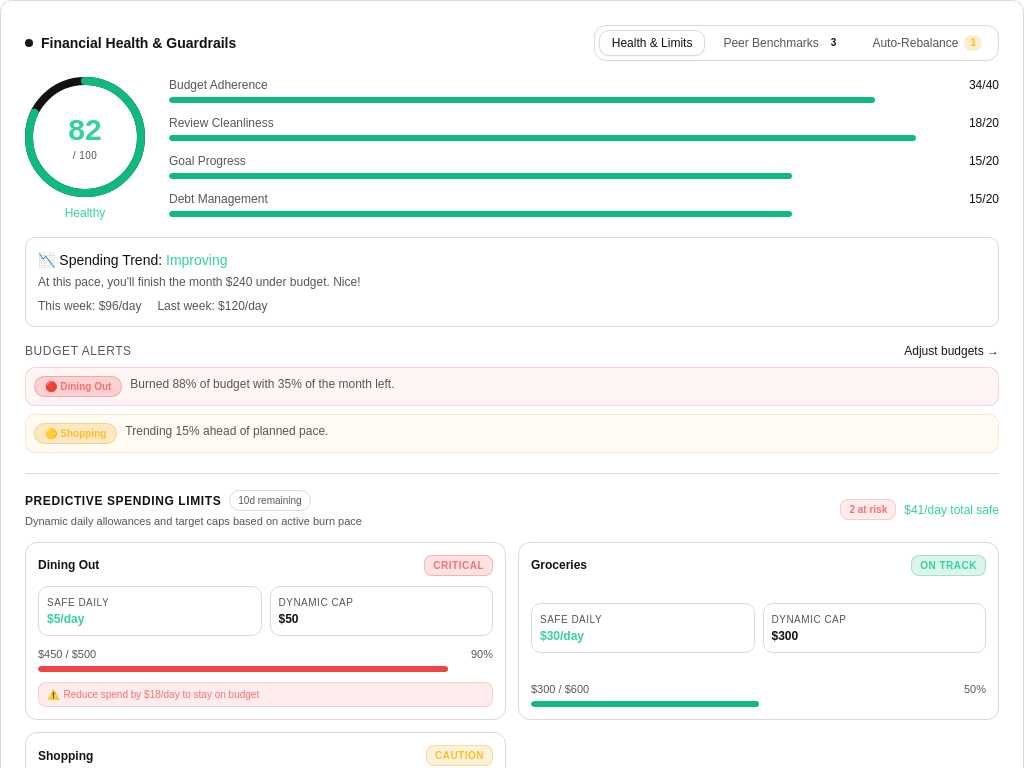
Test: BudgetHealthCard Component › renders peer spending benchmarks tab with statistical cohort alignment and category insights
This screenshot has width=1024, height=768.
# Switch to peer benchmarks tab
Click the button with test id "btn-tab-peer-benchmarks". click: (783, 43)
box: [711,31,854,55]
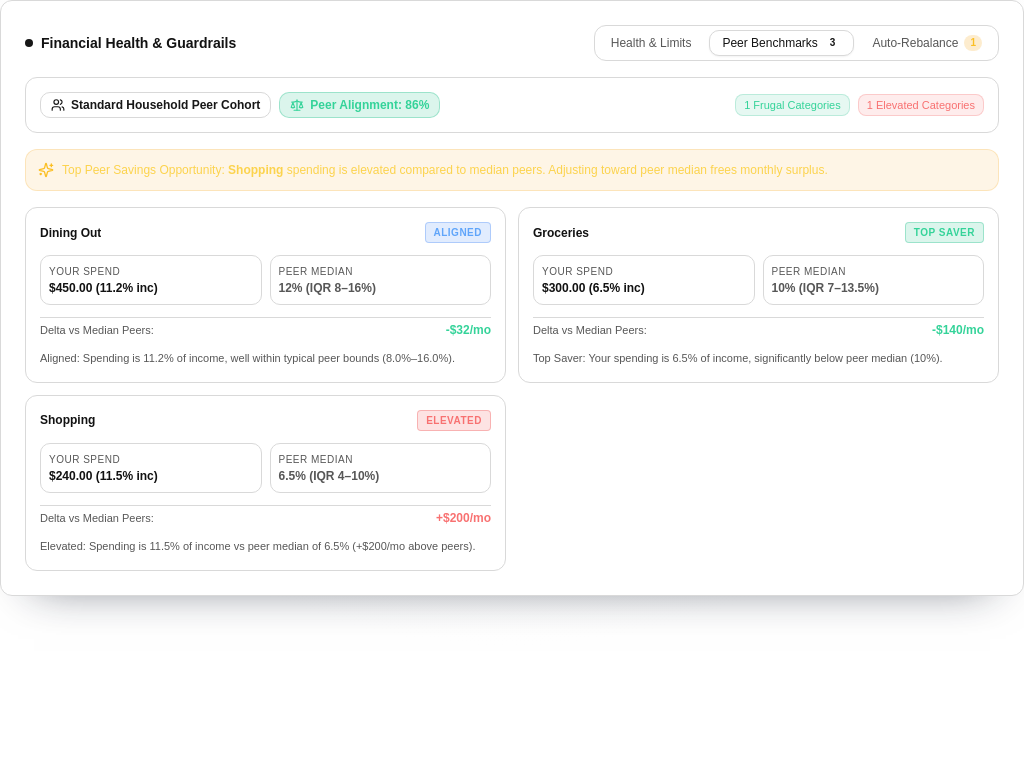
expect the element with test id "card-peer-benchmarking" is shown: met
expect the element with test id "badge-peer-cohort" reads "Standard Household Peer Cohort": met, box [71,98,260,112]
expect the element with test id "badge-peer-alignment" reads "Peer Alignment: 86%": met, box [279,92,440,118]
